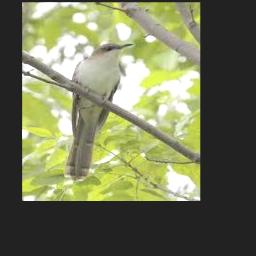Cuckoo: (64, 43, 133, 180)
